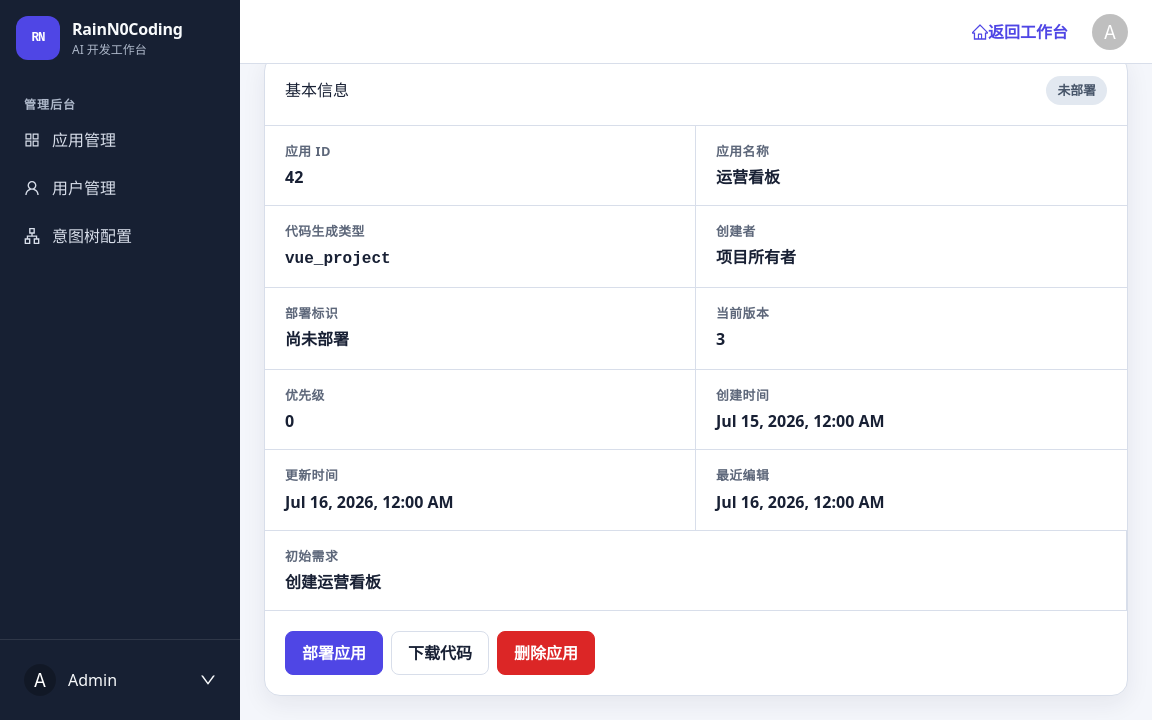
it: AppDetailAdmin › keeps app details visible and restores focus when deletion fails
(page scrolled)
Click the button "删除应用".
click(546, 653)  # box [497,631,595,675]
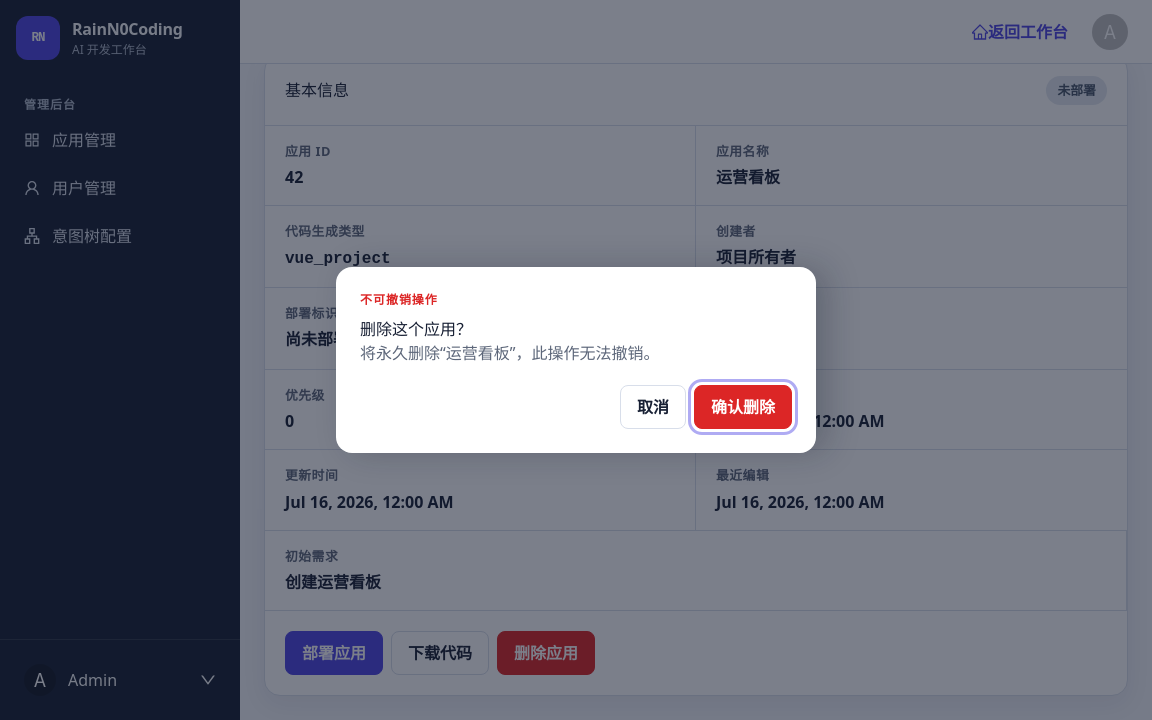
Click the button "确认删除".
click(743, 407)  # box [694,385,792,429]
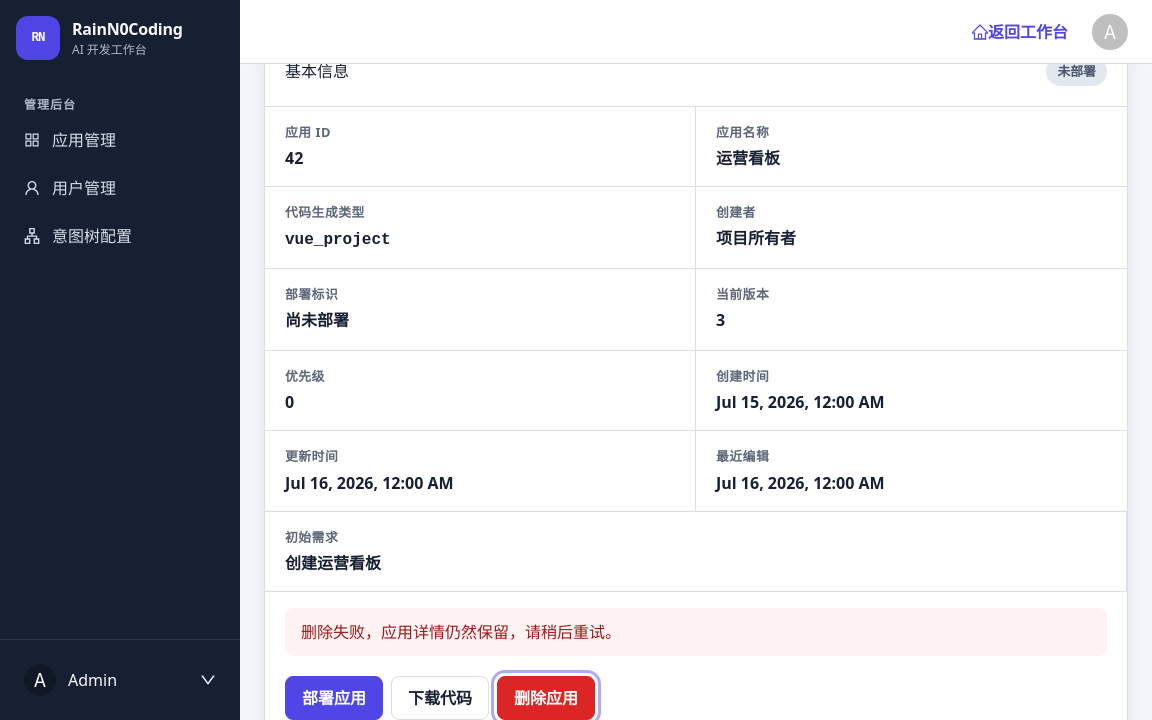
Expected: the text "运营看板" is shown, [716,147,780,169]
Now the message "删除失败，应用详情仍然保留，请稍后重试。" is shown, box [285,608,1107,656]
